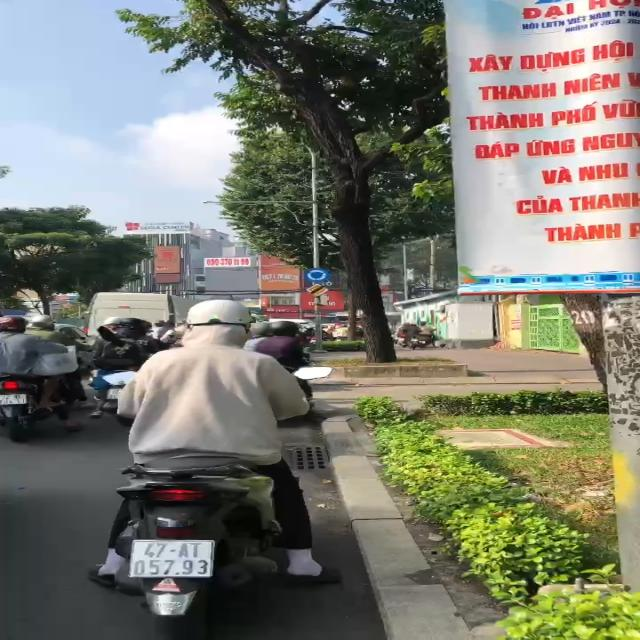Bien bao noi giao nhau chay theo vong xuyen: (303, 266, 331, 282)
